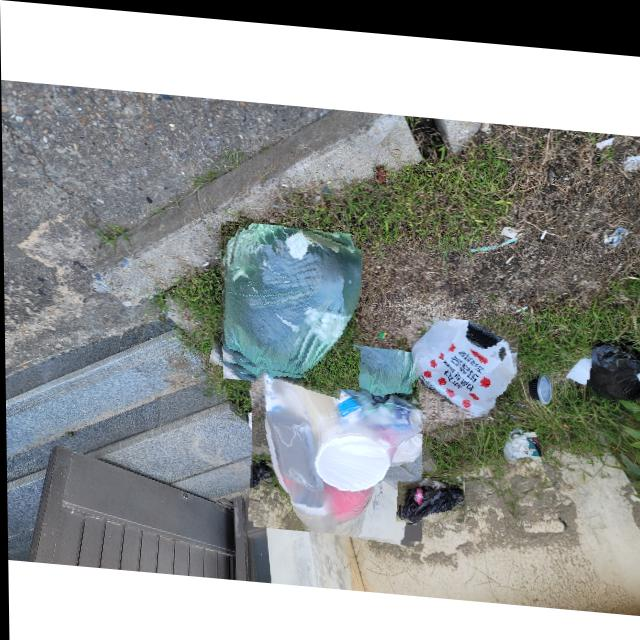general_trashbag: (222, 218, 361, 368)
other_trashbag: (258, 329, 420, 523), (411, 311, 515, 405), (587, 331, 640, 389), (400, 471, 462, 513)
